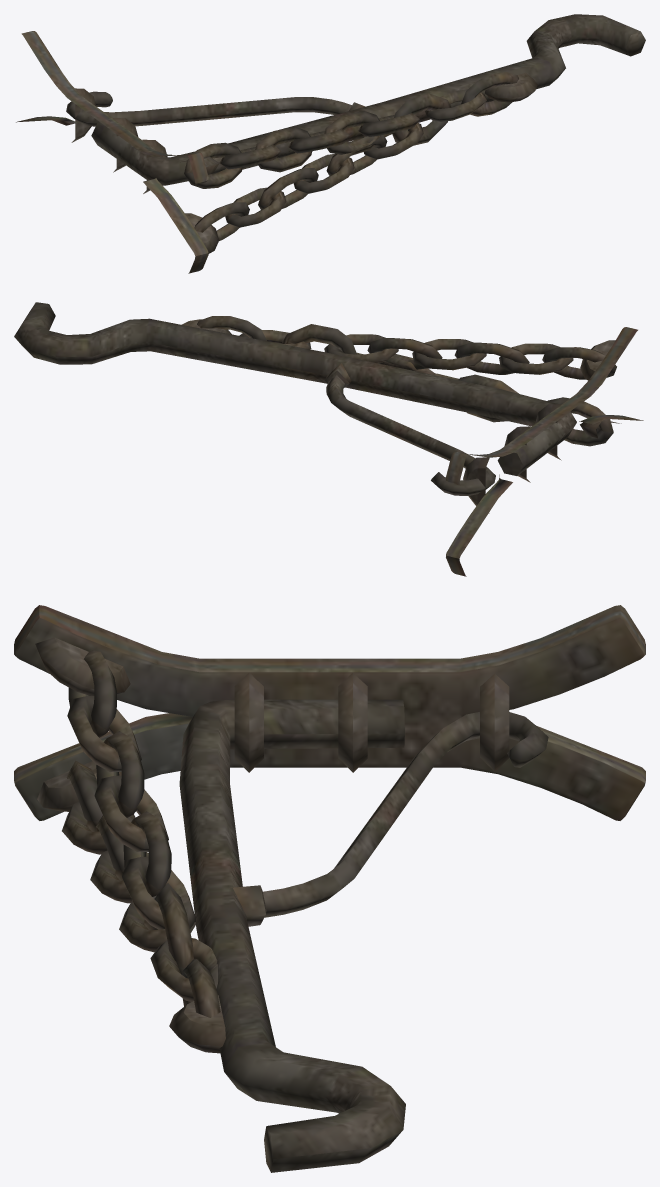
Rendered from GEN_PRO_Light_Hook_45cm_01A_LOD0-transformed.glb.
The picture shows the model from 3 angles, top to bottom: view 1: azimuth 30°, elevation 25°; view 2: azimuth 150°, elevation 25°; view 3: azimuth 270°, elevation 25°; orthographic projection. The views are drawn at different scales.
Visible parts, largest first — view 1: GEN_PRO_Light_Hook_45cm_01A_LOD0; view 2: GEN_PRO_Light_Hook_45cm_01A_LOD0; view 3: GEN_PRO_Light_Hook_45cm_01A_LOD0.
Part boxes in pixels (<box>): GEN_PRO_Light_Hook_45cm_01A_LOD0: <box>16,14,645,273</box>; GEN_PRO_Light_Hook_45cm_01A_LOD0: <box>14,302,643,576</box>; GEN_PRO_Light_Hook_45cm_01A_LOD0: <box>14,605,645,1172</box>.
Size of the model in its own units: 0.00508 by 0.00109 by 0.00304.
Materials: 1 (1 with a texture image).
